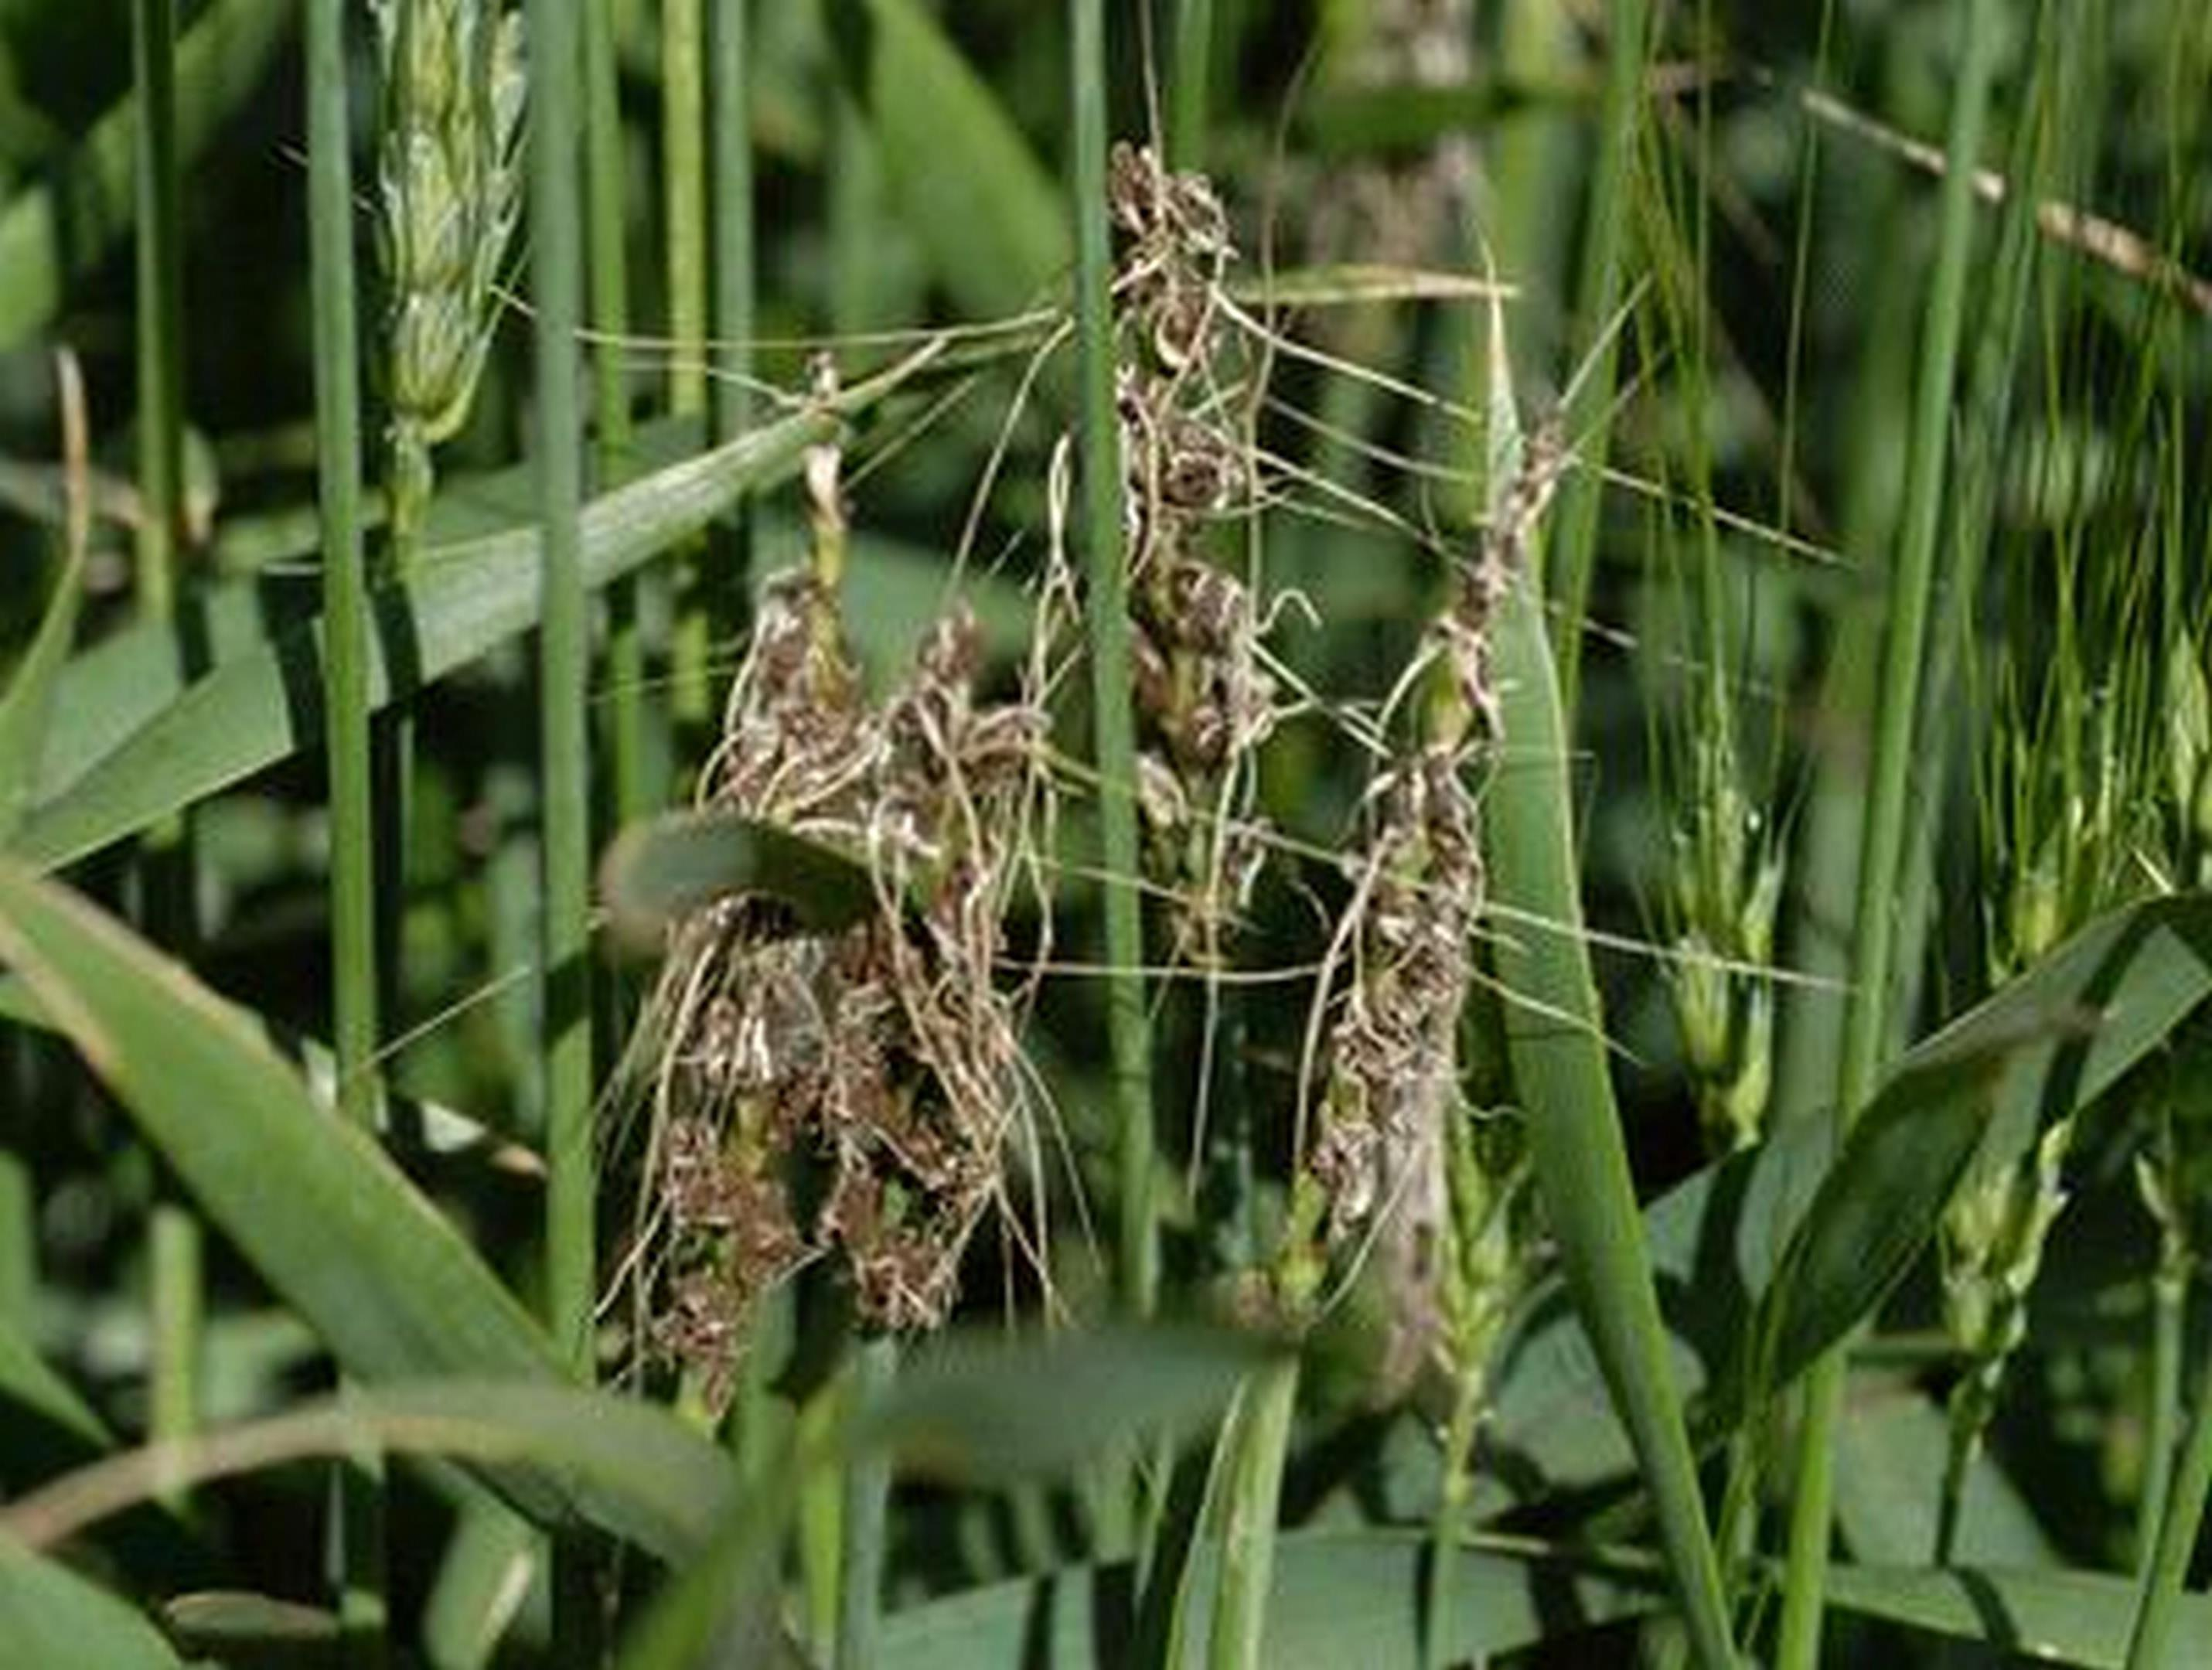Wheat Loose Smut: (681, 235, 1531, 1389)
